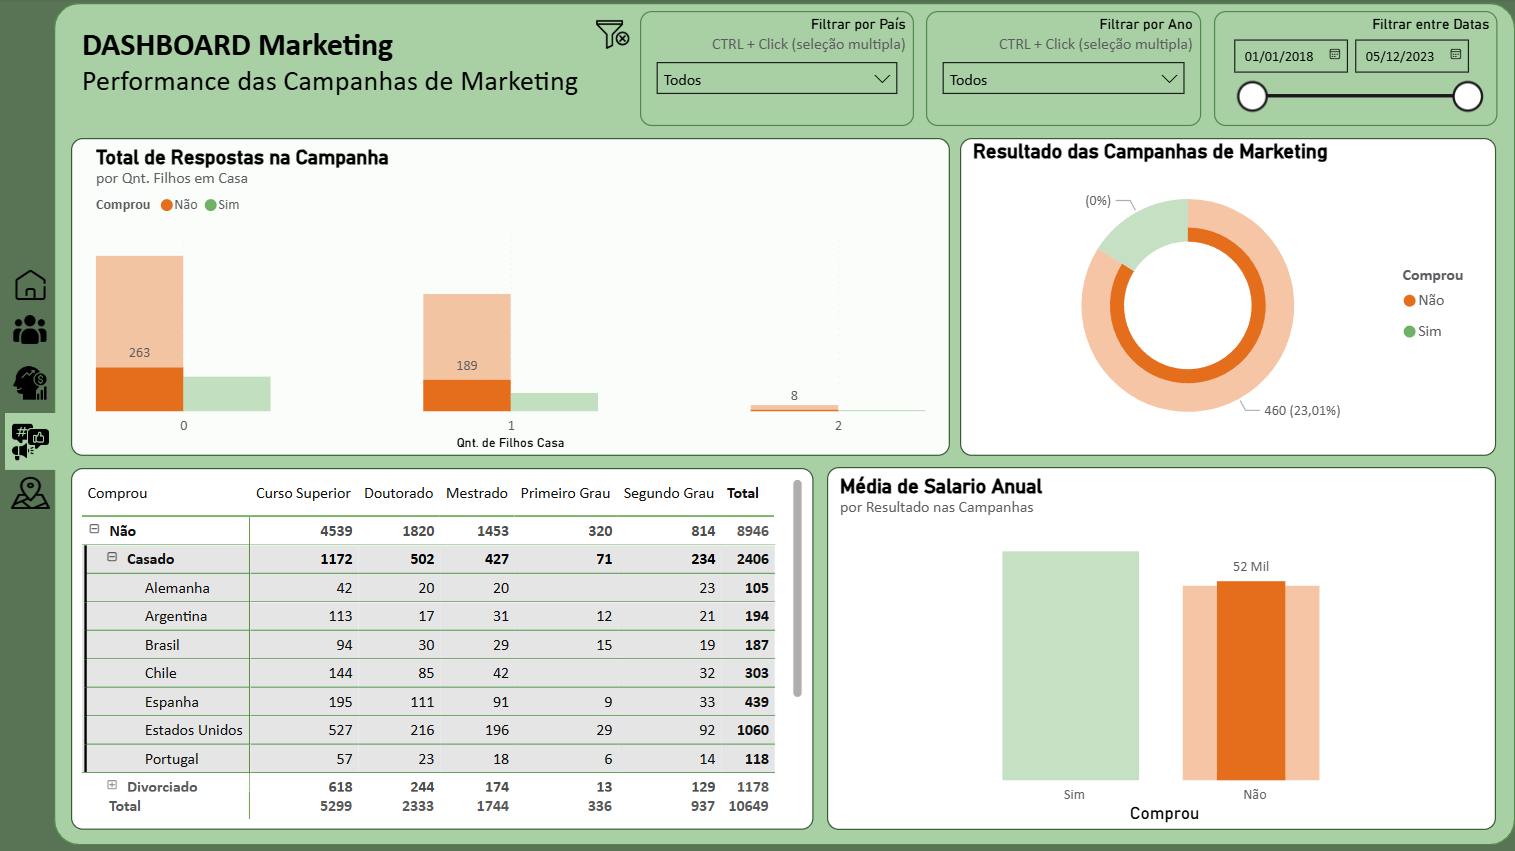

Layout of this report page (visuals, bound fields, positions):
{"tool":"powerbi","page":{"name":"Visão Campanhas","canvas":[1280,720],"ordinal":3},"visuals":[{"type":"group","id":"g1","title":"Grupo 1","box":[48.2,4.5,1231.8,710],"z":0},{"type":"shape","box":[48.2,4.5,1231.8,710],"z":0,"group":"g1"},{"type":"textbox","box":[67.1,17.6,470.9,73.6],"z":1000,"group":"g1"},{"type":"donutChart","title":"Resultado das Campanhas de Marketing","fields":{"Category":["Dados_Marketing.Comprou"],"Y":["CountNonNull(Dados_Marketing.ID)"]},"box":[811.9,118.3,452.2,268.3],"z":1000},{"type":"slicer","title":"Filtrar por Ano","fields":{"Values":["Dados_Marketing.Data Cadastro.Variation.Hierarquia de datas.Ano"]},"box":[783.7,10.9,231.8,97.3],"z":2000,"group":"g1"},{"type":"columnChart","title":"Média de Salario Anual","fields":{"Category":["Dados_Marketing.Comprou"],"Y":["Avg(Dados_Marketing.Salario Anual)"]},"box":[699.6,395.5,564.5,306.1],"z":2000},{"type":"slicer","title":"Filtrar por País","fields":{"Values":["Dados_Marketing.Pais"]},"box":[541.8,10.9,230.9,97.3],"z":3000,"group":"g1"},{"type":"pivotTable","fields":{"Rows":["Dados_Marketing.Comprou","Dados_Marketing.Estado Civil","Dados_Marketing.Pais"],"Values":["Sum(Dados_Marketing.Numero Visitas WebSite Mes)"],"Columns":["Dados_Marketing.Escolaridade"]},"box":[62.6,396.5,626.1,305.1],"z":3000},{"type":"image","box":[7,398.9,42.7,37.3],"z":3000,"group":"g3"},{"type":"slicer","title":"Filtrar entre Datas","fields":{"Values":["Dados_Marketing.Data Cadastro"]},"box":[1026.4,10.9,239.1,97.3],"z":4000,"group":"g1"},{"type":"clusteredColumnChart","title":"Total de Respostas na Campanha","fields":{"Series":["Dados_Marketing.Comprou"],"Category":["Dados_Marketing.Filhos em Casa"],"Y":["CountNonNull(Dados_Marketing.Comprou)"]},"box":[62.6,118.3,741.4,268.3],"z":4000},{"type":"image","box":[7,260.7,42.7,38.2],"z":4000,"group":"g3"},{"type":"group","id":"g2","title":"Grupo 5","box":[7,223.6,42.7,212.7],"z":5000},{"type":"group","id":"g3","title":"Grupo 2","box":[7,260.7,42.7,175.5],"z":5000,"group":"g2"},{"type":"image","box":[7,303.4,42.7,41.8],"z":5000,"group":"g3"},{"type":"image","box":[498.9,11.9,39.8,37.8],"z":6000},{"type":"image","box":[7,223.6,42.6,37.2],"z":6000,"group":"g2"},{"type":"image","box":[7,349.8,42.7,48.2],"z":6000,"group":"g3"}]}

Visuals, with their boxes on the page's 1280x720 design canvas (x1, y1, x2, y2). These are canvas units, not pixel positions in the 1515x851 screenshot, which may show the page scaled, cropped or inside an application window:
"Grupo 1" group: (48, 4, 1280, 714)
shape: (48, 4, 1280, 714)
textbox: (67, 18, 538, 91)
"Resultado das Campanhas de Marketing" donutChart: (812, 118, 1264, 387)
"Filtrar por Ano" slicer: (784, 11, 1016, 108)
"Média de Salario Anual" columnChart: (700, 396, 1264, 702)
"Filtrar por País" slicer: (542, 11, 773, 108)
pivotTable - Dados_Marketing.Comprou x Dados_Marketing.Estado Civil: (63, 396, 689, 702)
image: (7, 399, 50, 436)
"Filtrar entre Datas" slicer: (1026, 11, 1266, 108)
"Total de Respostas na Campanha" clusteredColumnChart: (63, 118, 804, 387)
image: (7, 261, 50, 299)
"Grupo 5" group: (7, 224, 50, 436)
"Grupo 2" group: (7, 261, 50, 436)
image: (7, 303, 50, 345)
image: (499, 12, 539, 50)
image: (7, 224, 50, 261)
image: (7, 350, 50, 398)
